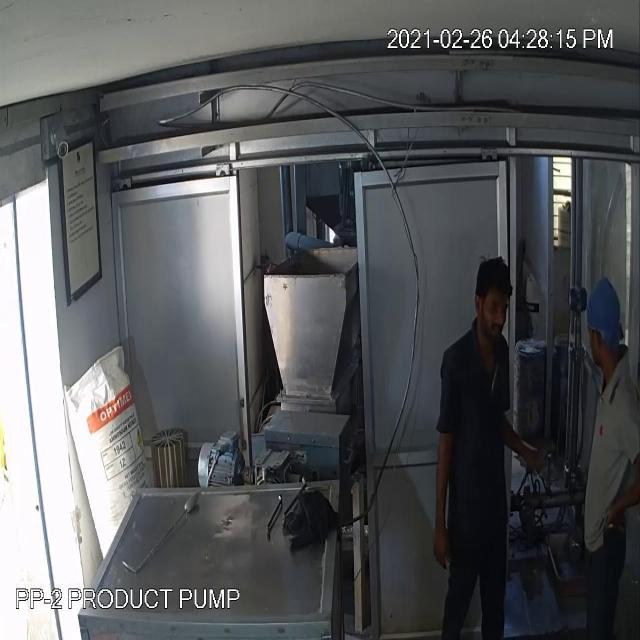no-helmet: (461, 248, 519, 324)
